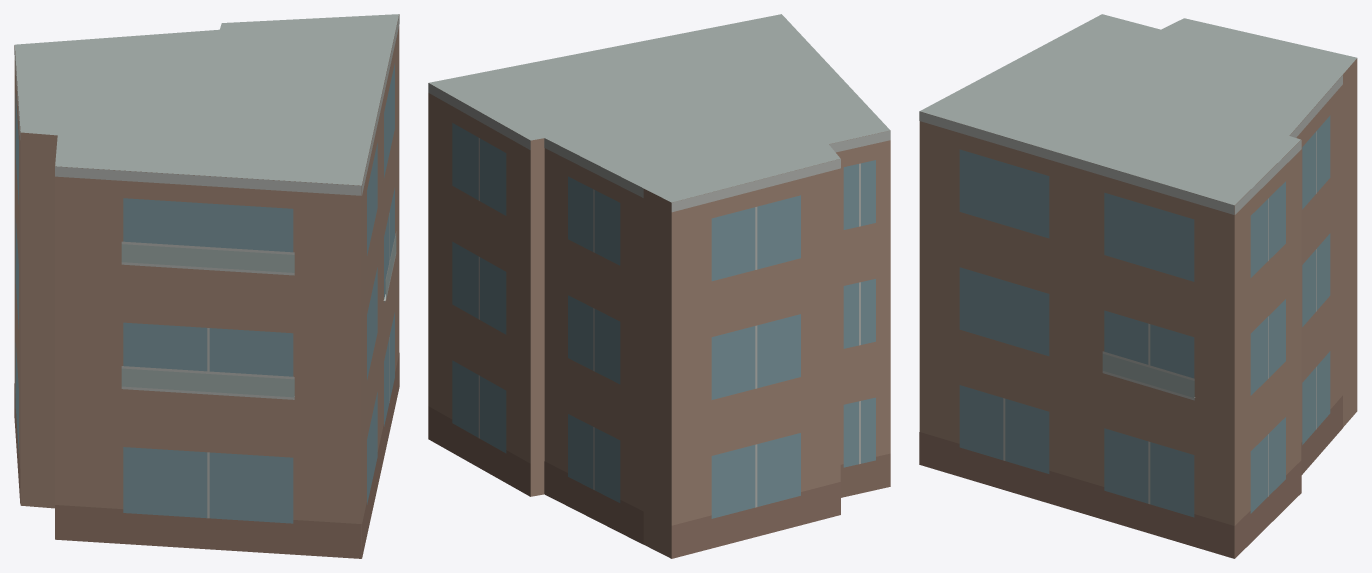
The model's file is survey-upis-32479693.glb.
3 renders of one model, left to right at view 1: azimuth 30°, elevation 25°; view 2: azimuth 150°, elevation 25°; view 3: azimuth 270°, elevation 25°, orthographic. The views are drawn at different scales.
Parts seen in each view (by area): view 1: survey-upis-32479693.tmp; view 2: survey-upis-32479693.tmp; view 3: survey-upis-32479693.tmp.
Part boxes in pixels (x1,y1,x2,y2): survey-upis-32479693.tmp: [14, 14, 399, 558]; survey-upis-32479693.tmp: [428, 14, 890, 558]; survey-upis-32479693.tmp: [919, 14, 1357, 558].
Size of the model in its own units: 10.29 by 8.85 by 9.95.
